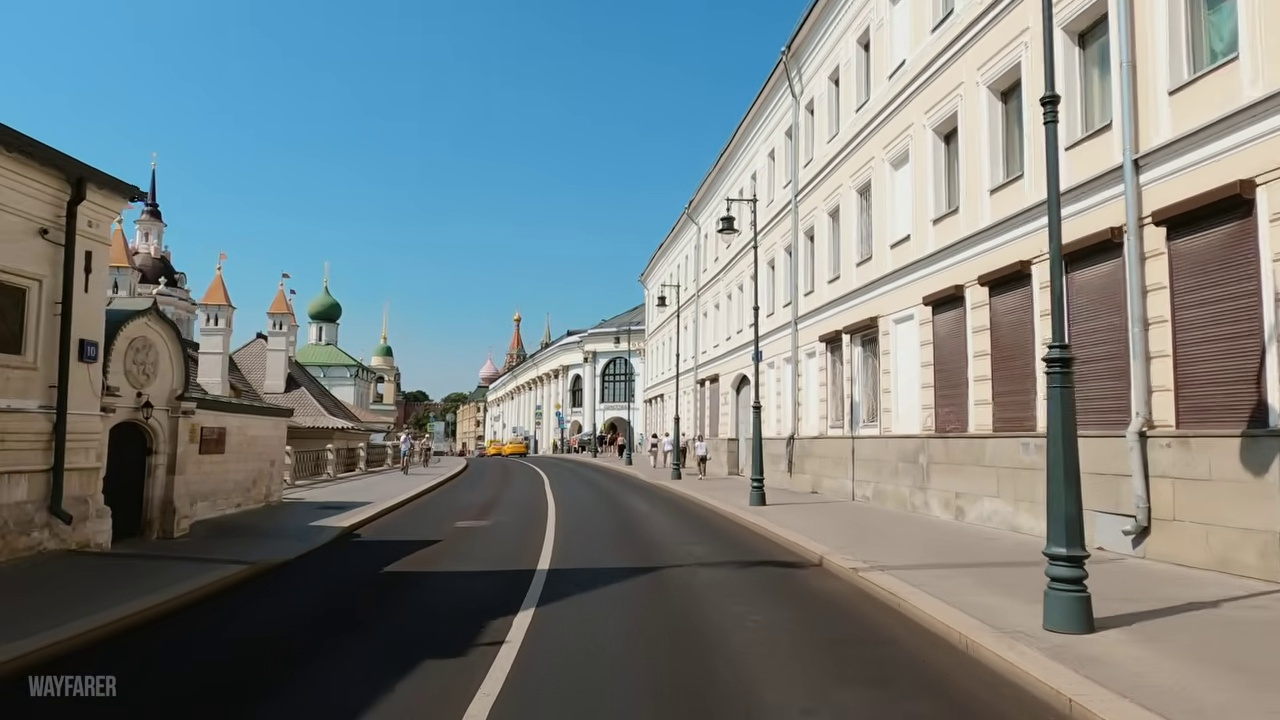apagada: (715, 211, 738, 247)
